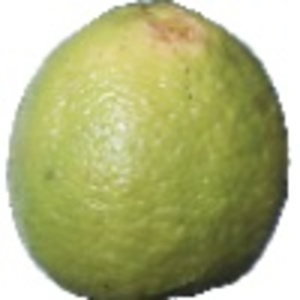limão: (7, 1, 290, 300)
